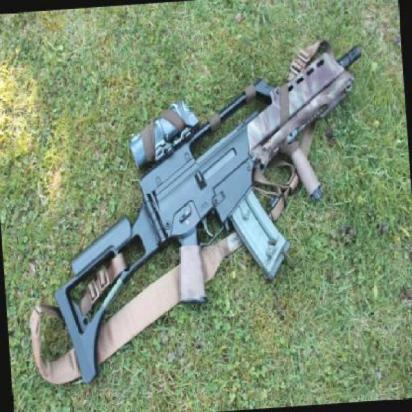Gun: (38, 16, 387, 398)
